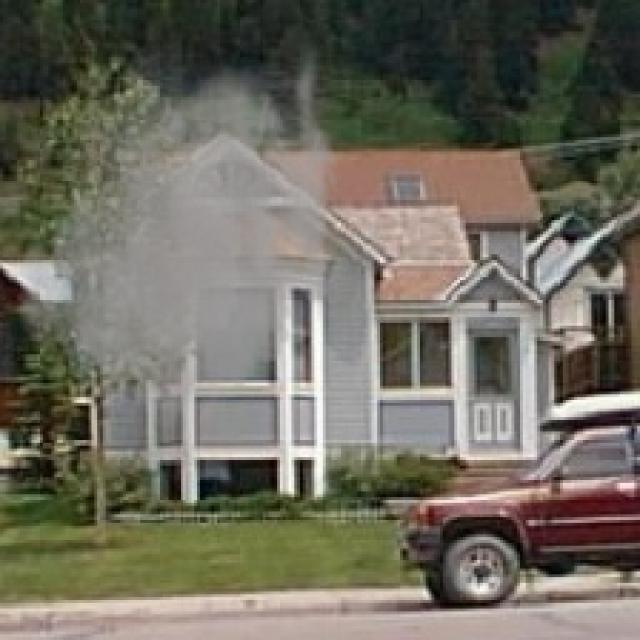smoke: (9, 31, 354, 440)
